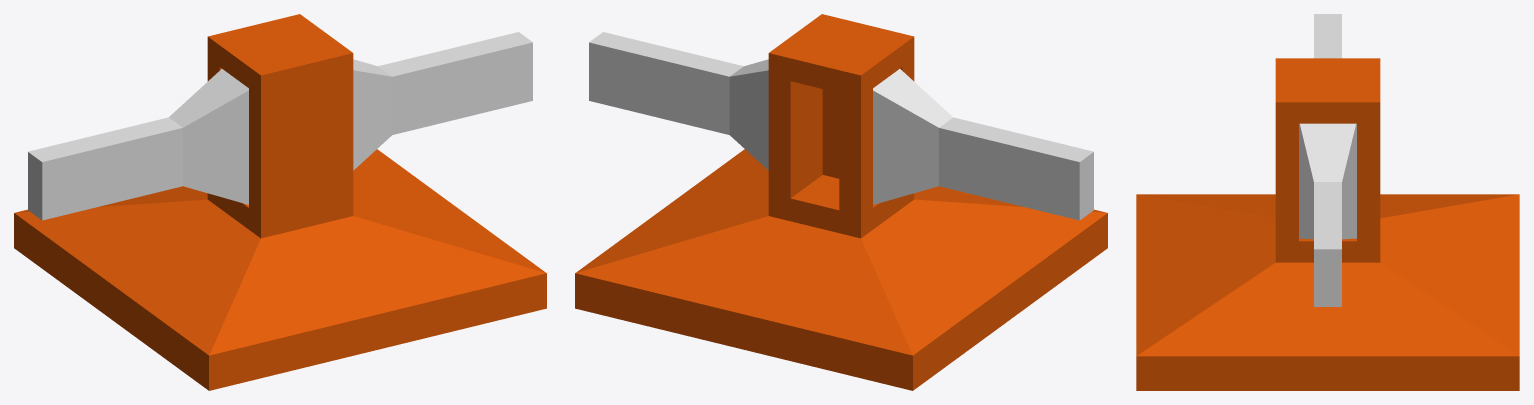
File: Receiver 1.fbx
3 views of the same model, side by side, from view 1: azimuth 30°, elevation 25°; view 2: azimuth 150°, elevation 25°; view 3: azimuth 270°, elevation 25° (orthographic).
Parts seen in each view (by area): view 1: Receiver; view 2: Receiver; view 3: Receiver.
Part boxes in pixels (x1,y1,x2,y2): Receiver: (14,14,546,390); Receiver: (575,14,1107,390); Receiver: (1136,14,1519,390).
Size of the model in its own units: 291 by 132 by 200.
